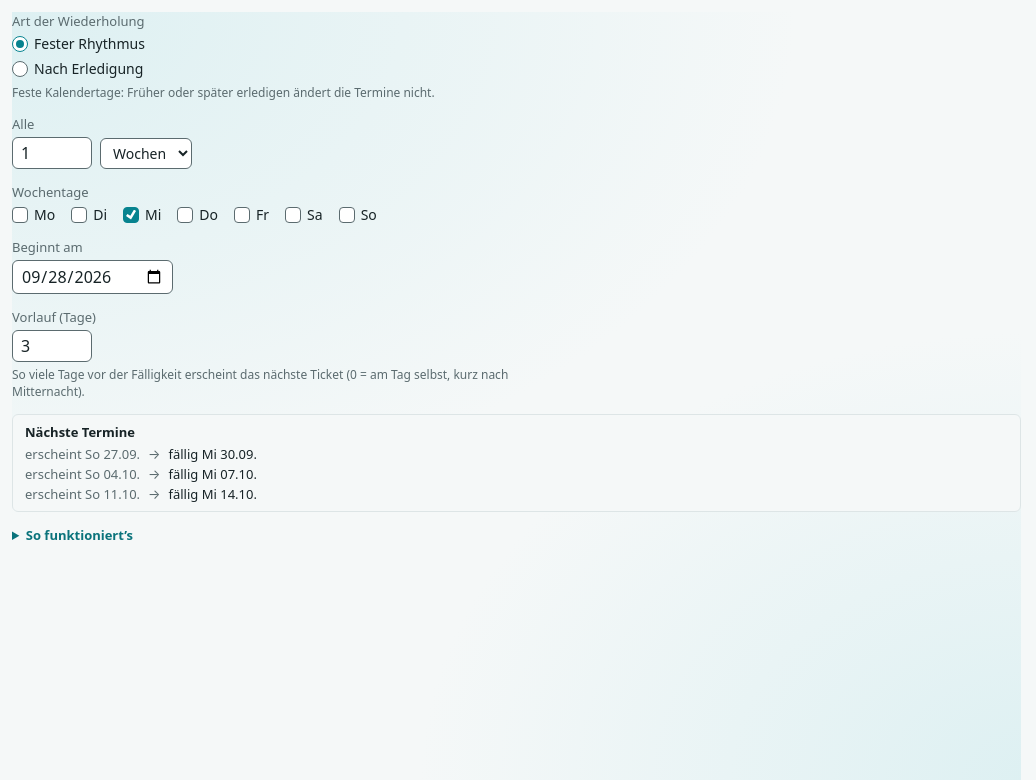
Scenario: RecurrenceForm: preview with several weekdays (OR-1) › asks for a weekday when the last one is unchecked
Click the checkbox named "Mittwoch" at (131, 214), box [123, 206, 139, 222]
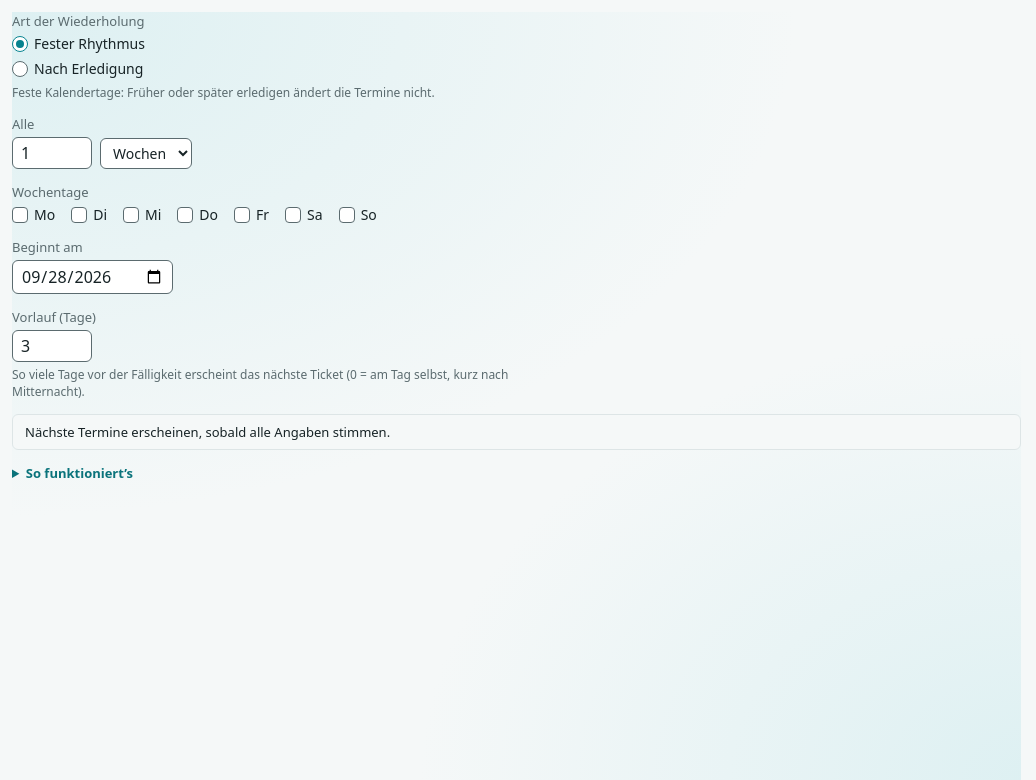
Check: the text "Nächste Termine erscheinen, sobald alle Angaben stimmen." is shown, box [25, 423, 390, 441]
